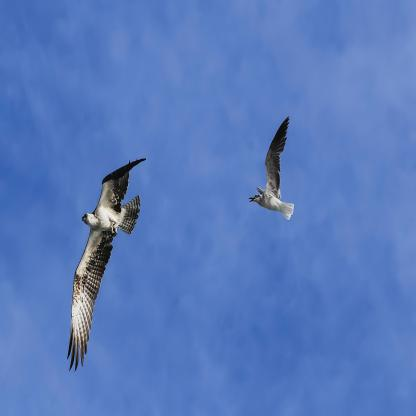bird: (67, 158, 147, 373), (249, 116, 294, 220)
